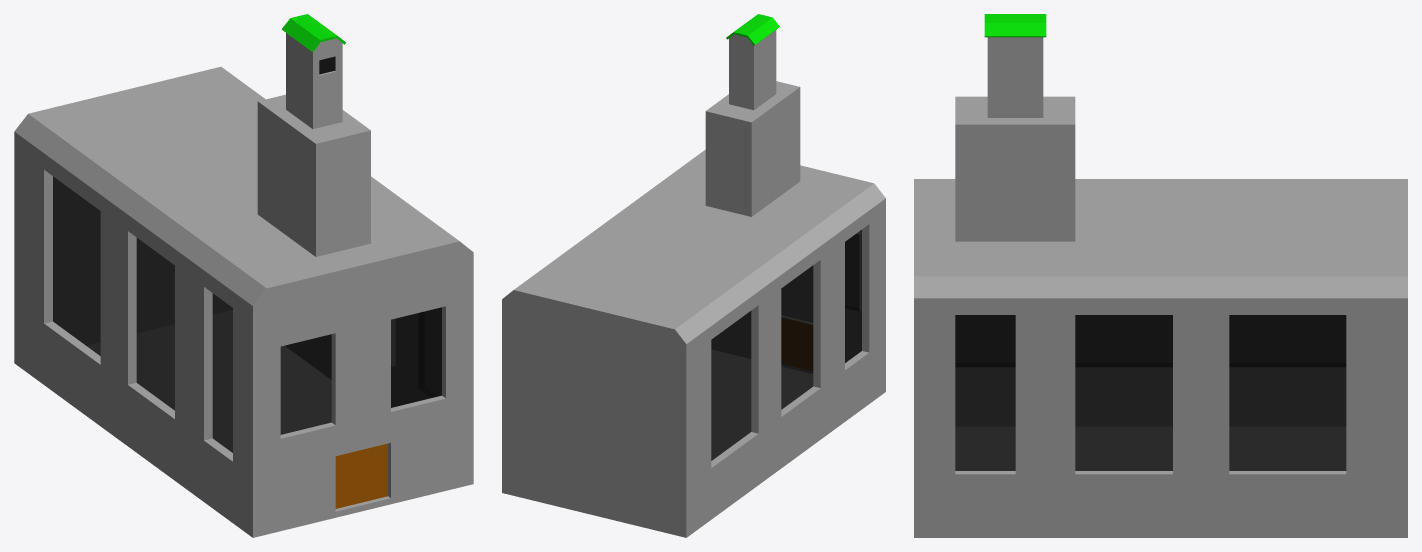
File: Church_Test_V3.fbx
The picture shows the model from 3 angles, left to right: view 1: azimuth 30°, elevation 25°; view 2: azimuth 150°, elevation 25°; view 3: azimuth 270°, elevation 25°; orthographic projection. The views are drawn at different scales.
Visible parts, largest first — view 1: polySurface4, polySurface3; view 2: polySurface4, polySurface3; view 3: polySurface4, polySurface3.
Boxes of the visible parts, box(x1,y1,x2,y2) form: polySurface4: box(14, 33, 473, 537); polySurface3: box(281, 14, 345, 51); polySurface4: box(502, 30, 885, 537); polySurface3: box(726, 14, 779, 45); polySurface4: box(914, 37, 1407, 537); polySurface3: box(984, 14, 1046, 37).
Size of the model in its own units: 1.84 by 3.58 by 3.45.
